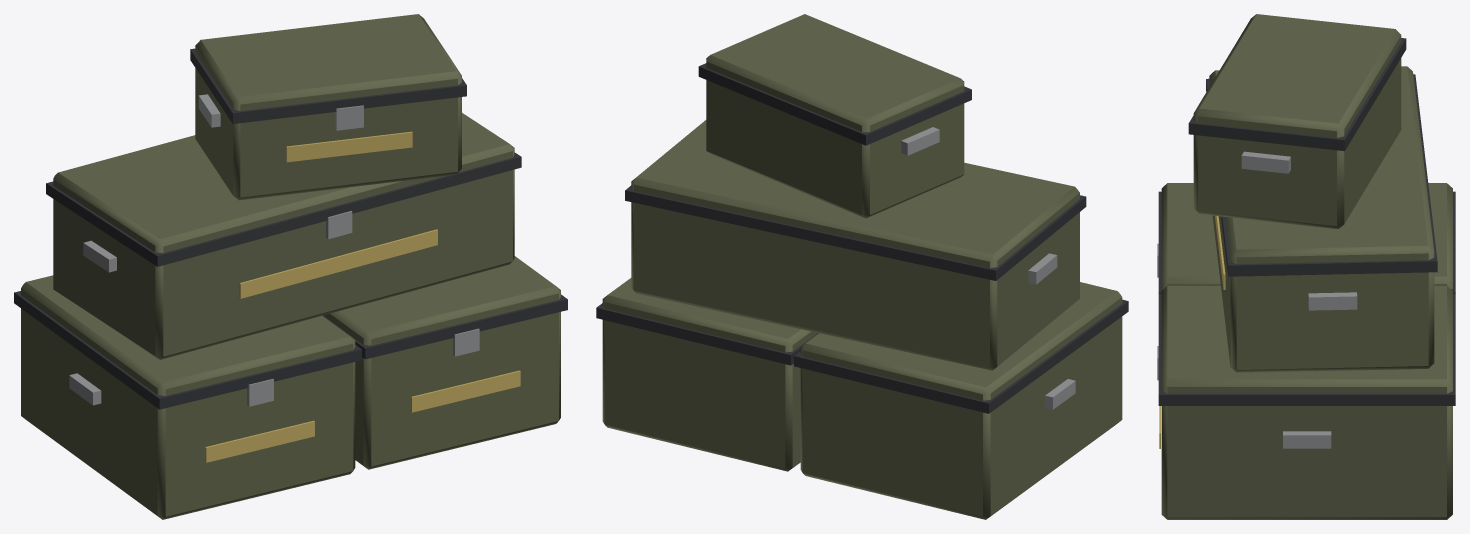
File: int_ammo_stack.glb
3 views of the same model, side by side, from view 1: azimuth 30°, elevation 25°; view 2: azimuth 150°, elevation 25°; view 3: azimuth 270°, elevation 25° (orthographic). The views are drawn at different scales.
Parts seen in each view (by area): view 1: kit_int_ammo_stack_paint, kit_int_ammo_stack_dark_metal, kit_int_ammo_stack_mark_paint, kit_int_ammo_stack_metal; view 2: kit_int_ammo_stack_paint, kit_int_ammo_stack_dark_metal, kit_int_ammo_stack_metal; view 3: kit_int_ammo_stack_paint, kit_int_ammo_stack_dark_metal, kit_int_ammo_stack_metal, kit_int_ammo_stack_mark_paint.
Part boxes in pixels (x1,y1,x2,y2): kit_int_ammo_stack_paint: (21,14,560,519); kit_int_ammo_stack_dark_metal: (14,48,567,409); kit_int_ammo_stack_mark_paint: (205,131,520,462); kit_int_ammo_stack_metal: (69,94,479,406); kit_int_ammo_stack_paint: (602,14,1122,519); kit_int_ammo_stack_dark_metal: (596,63,1128,413); kit_int_ammo_stack_metal: (901,127,1075,409); kit_int_ammo_stack_paint: (1161,14,1452,519); kit_int_ammo_stack_dark_metal: (1158,38,1455,405); kit_int_ammo_stack_metal: (1157,151,1357,448); kit_int_ammo_stack_mark_paint: (1159,216,1225,448).
Bounding box in the file's own units: 1.02 × 0.84 × 0.615.
